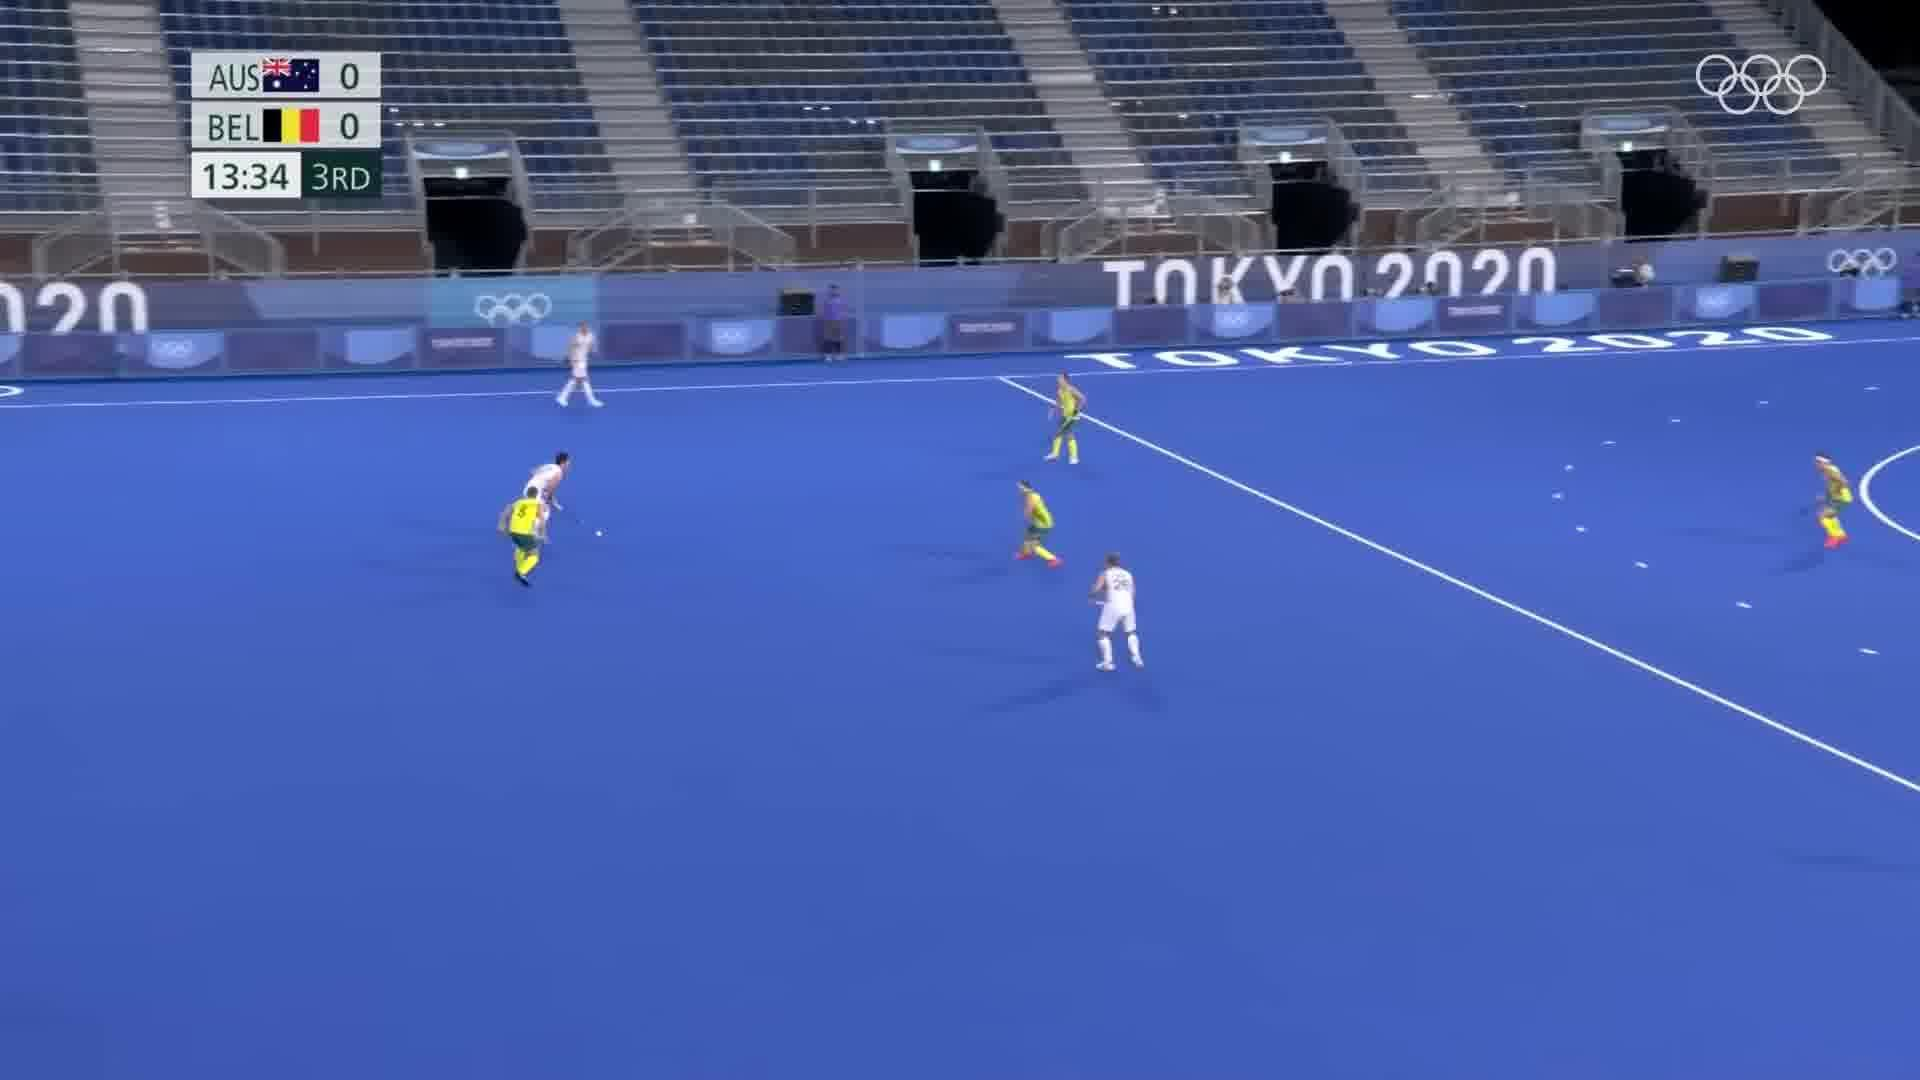ball: (592, 526, 607, 541)
